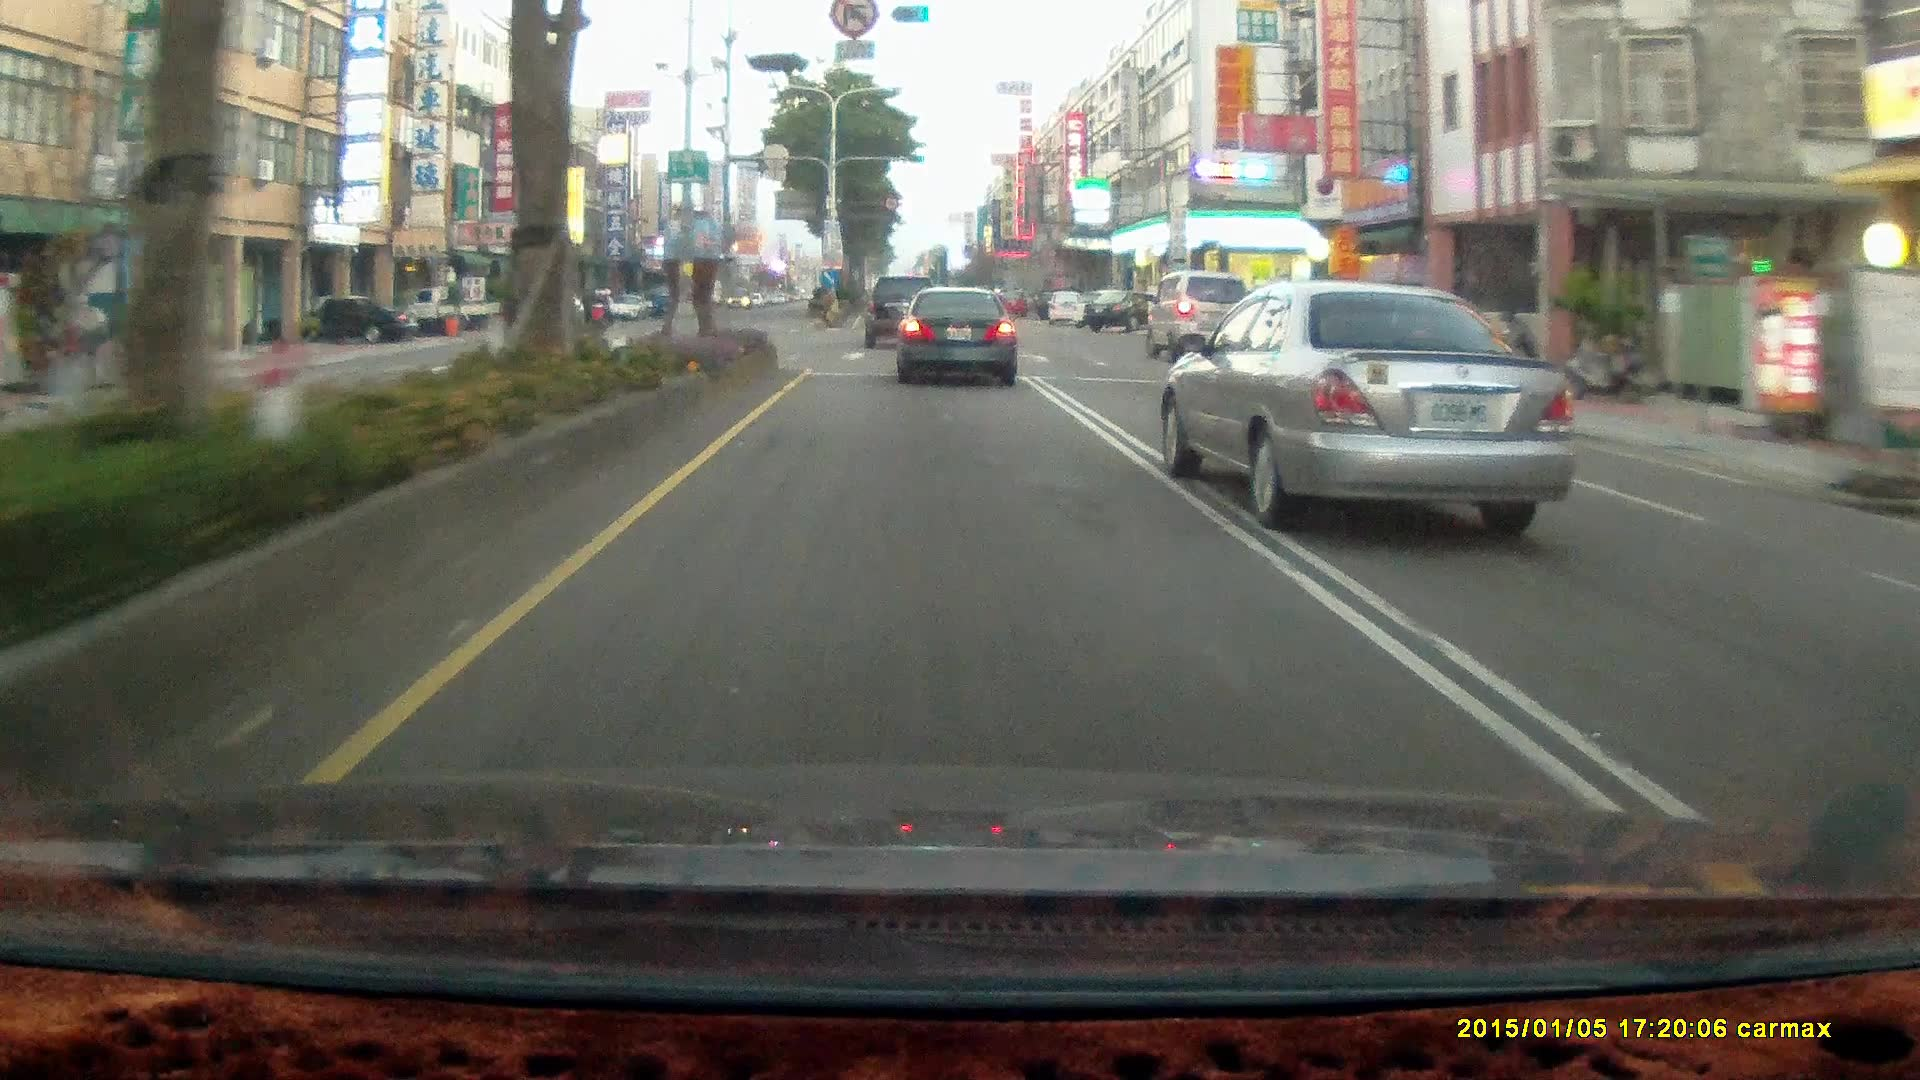rider: (587, 288, 619, 335)
vehicle: (1165, 279, 1593, 532), (897, 284, 1023, 390), (893, 284, 1016, 385), (1147, 269, 1254, 362), (1148, 270, 1256, 364), (278, 294, 412, 343), (297, 294, 410, 349), (863, 274, 942, 351), (864, 275, 940, 348), (406, 286, 504, 338), (398, 286, 497, 332), (1084, 287, 1161, 329), (1043, 286, 1086, 322), (610, 294, 651, 319)
